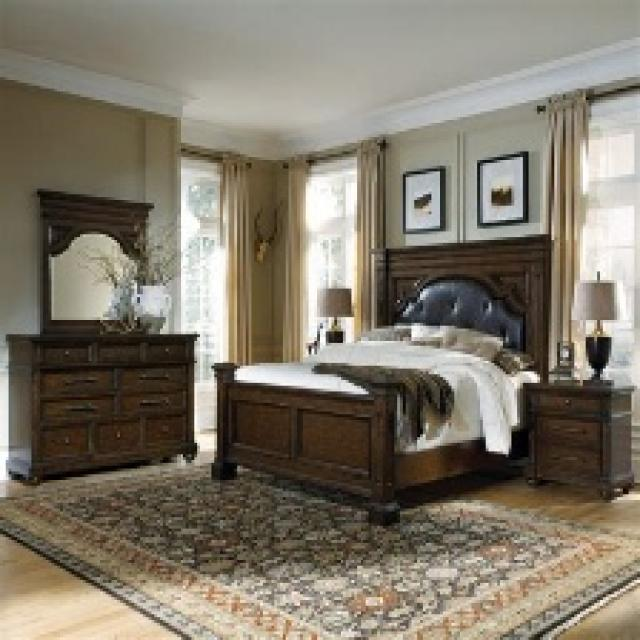Bed: (209, 231, 554, 526)
